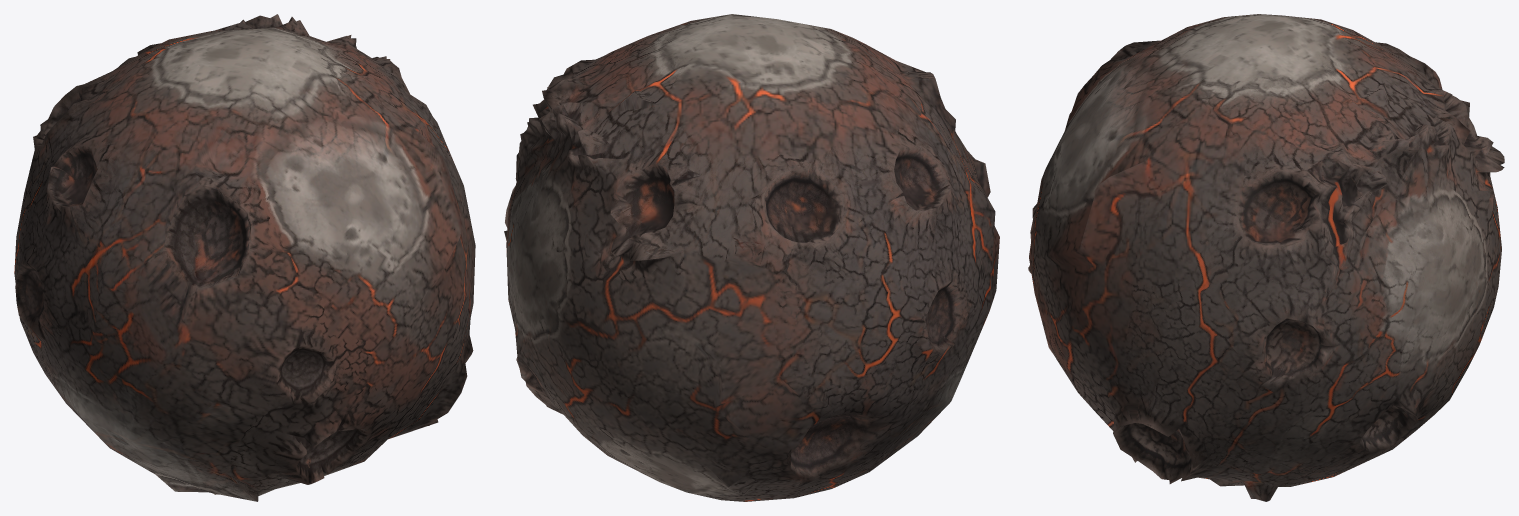
The model's file is planet_cinder_moon.glb.
The picture shows the model from 3 angles, left to right: view 1: azimuth 30°, elevation 25°; view 2: azimuth 150°, elevation 25°; view 3: azimuth 270°, elevation 25°; orthographic projection. The views are drawn at different scales.
Bounding box in the file's own units: 0.9521 × 0.9482 × 0.938.
1 material, 1 textured.
